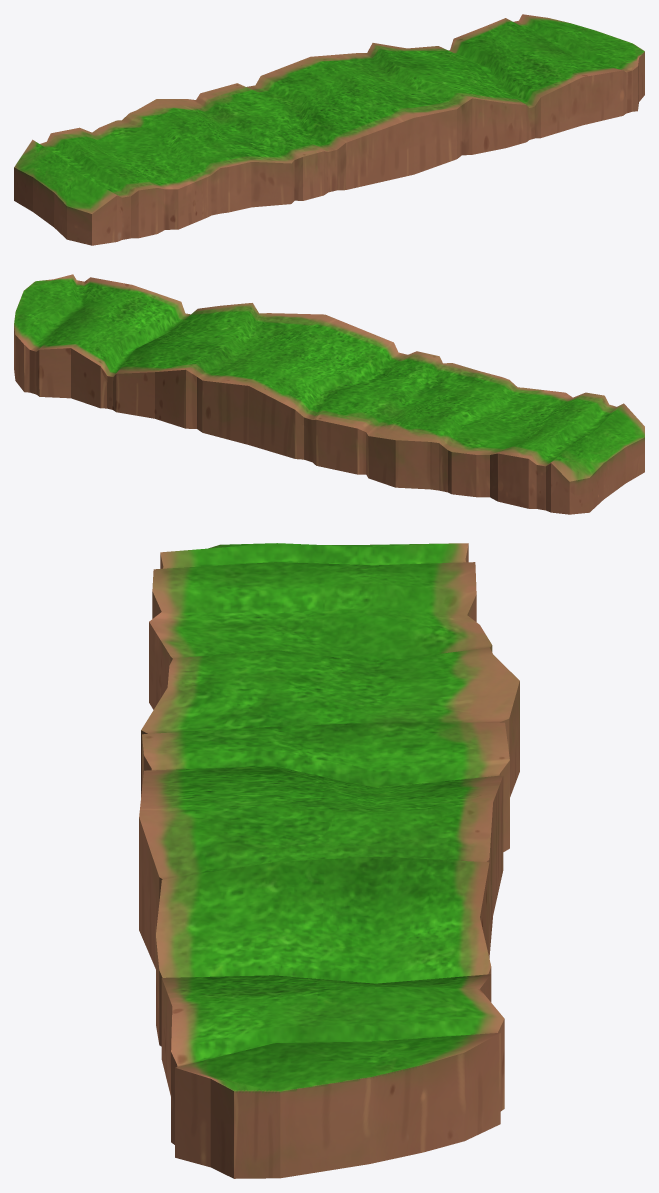
File: ground_05.fbx
3 views of the same model, one above another, from view 1: azimuth 30°, elevation 25°; view 2: azimuth 150°, elevation 25°; view 3: azimuth 270°, elevation 25° (orthographic). The views are drawn at different scales.
Visible parts, largest first — view 1: ground_05; view 2: ground_05; view 3: ground_05.
Boxes of the visible parts, x1,y1,x2,y2 form: ground_05: [14, 14, 644, 245]; ground_05: [14, 274, 644, 514]; ground_05: [139, 543, 519, 1178].
Bounding box in the file's own units: 8.83 × 2.5 × 0.8242.
